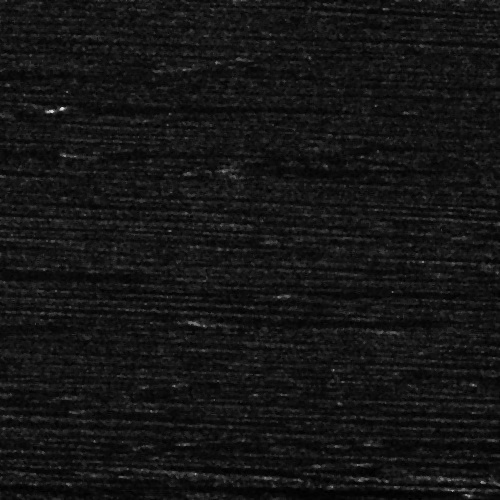object: (204, 163, 287, 172), (36, 101, 109, 108), (73, 149, 126, 156), (166, 317, 207, 322)
shadow: (73, 101, 373, 108), (246, 163, 478, 172), (99, 149, 325, 156), (0, 268, 126, 273), (187, 317, 268, 322)
